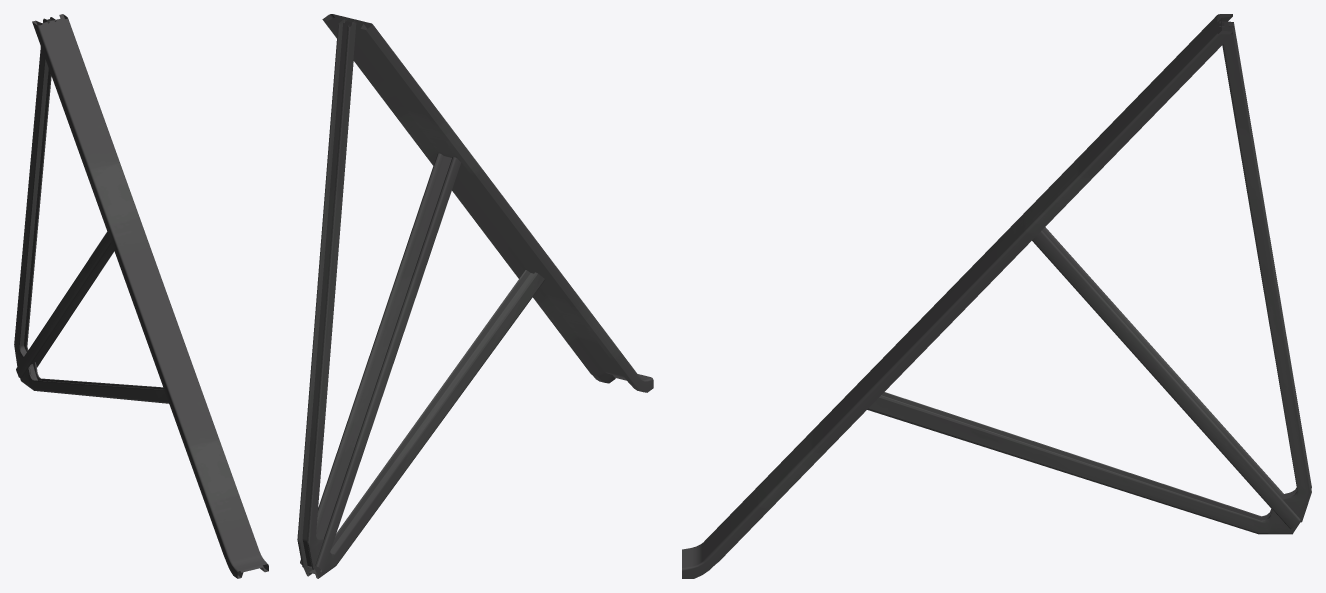
File: EN_W_fence5_ConnectBot.fbx
The picture shows the model from 3 angles, left to right: view 1: azimuth 30°, elevation 25°; view 2: azimuth 150°, elevation 25°; view 3: azimuth 270°, elevation 25°; orthographic projection. The views are drawn at different scales.
Visible parts, largest first — view 1: EN_W_fence5_ConnectBot; view 2: EN_W_fence5_ConnectBot; view 3: EN_W_fence5_ConnectBot.
Part boxes in pixels (x1=…): EN_W_fence5_ConnectBot: x1=14, y1=14, x2=268, y2=578; EN_W_fence5_ConnectBot: x1=297, y1=14, x2=653, y2=578; EN_W_fence5_ConnectBot: x1=682, y1=14, x2=1311, y2=578.
Bounding box in the file's own units: 17.96 × 224 × 235.
